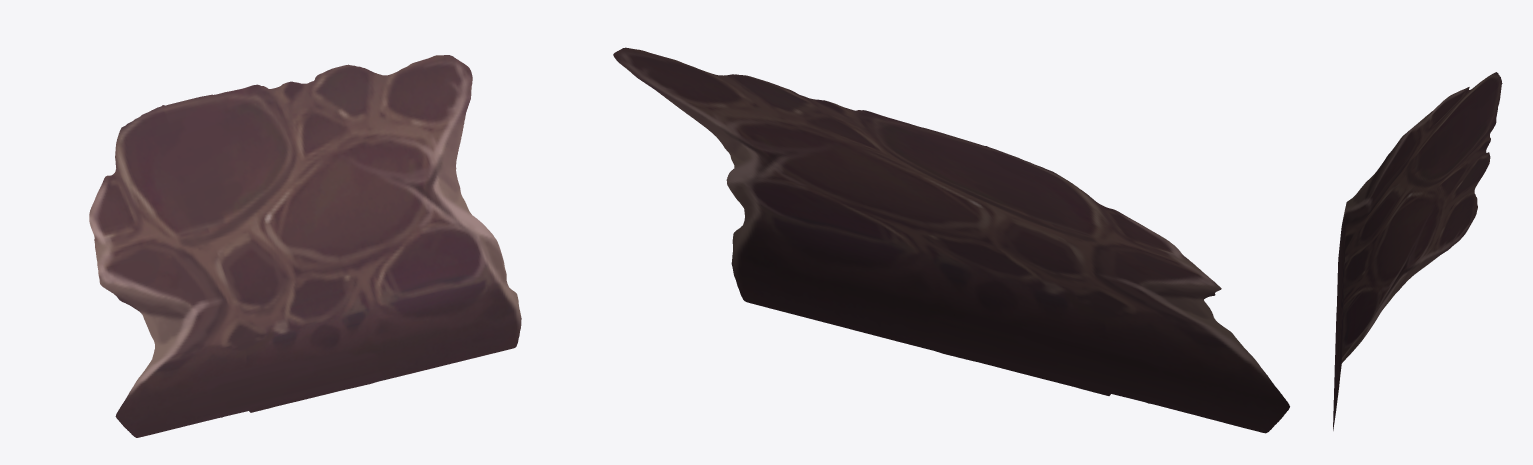
File: LVL7 Falling Floor.FBX
3 views of the same model, side by side, from view 1: azimuth 30°, elevation 25°; view 2: azimuth 150°, elevation 25°; view 3: azimuth 270°, elevation 25° (orthographic). The views are drawn at different scales.
Parts seen in each view (by area): view 1: Falling Floor; view 2: Falling Floor; view 3: Falling Floor.
Boxes of the visible parts, <box> form: Falling Floor: <box>89,55,521,437</box>; Falling Floor: <box>613,47,1289,433</box>; Falling Floor: <box>1333,72,1502,430</box>.
Bounding box in the file's own units: 217 × 85.11 × 128.
